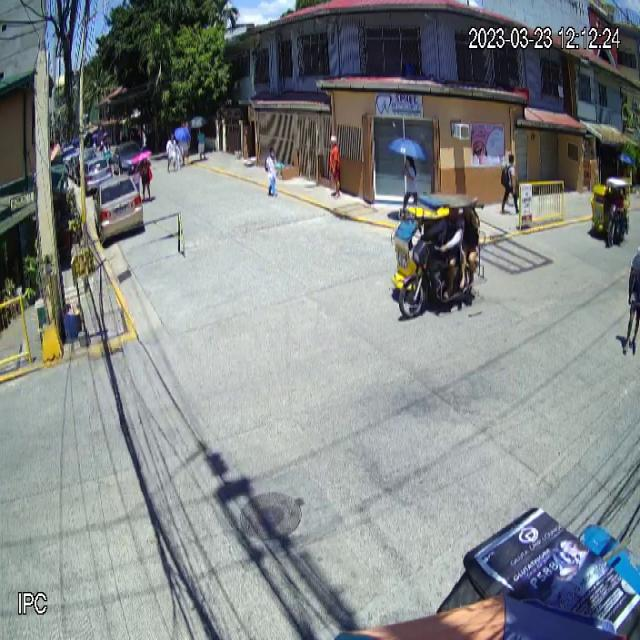Tricycle: (392, 194, 487, 319)
